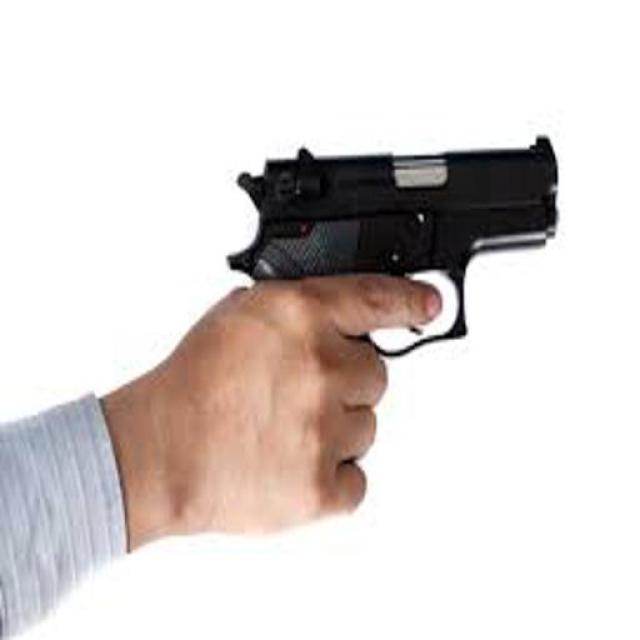pistol: (232, 131, 560, 370)
